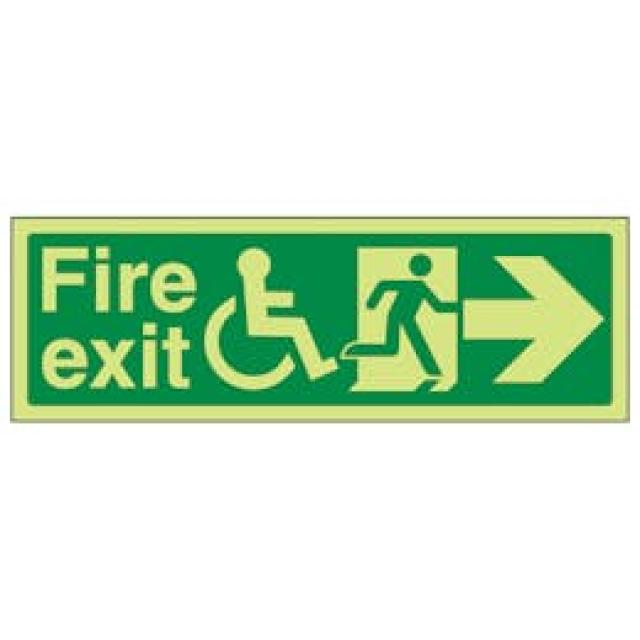exit_sign: (3, 207, 640, 430)
